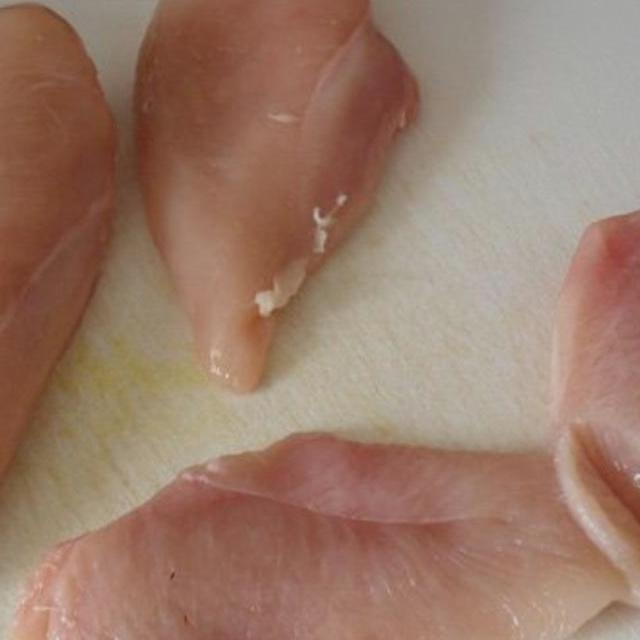chicken: (13, 426, 640, 640), (130, 0, 421, 399), (0, 0, 121, 620), (551, 109, 640, 579)
